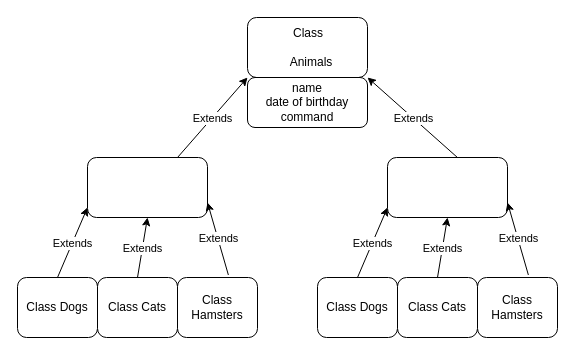
Image size: 575x355. Some labels were removed from this diagram. Each missing label, with the centre of its shape:
"Class Pack_animals" goes at pixel 447 187.
"Class Pets" goes at pixel 147 187.
